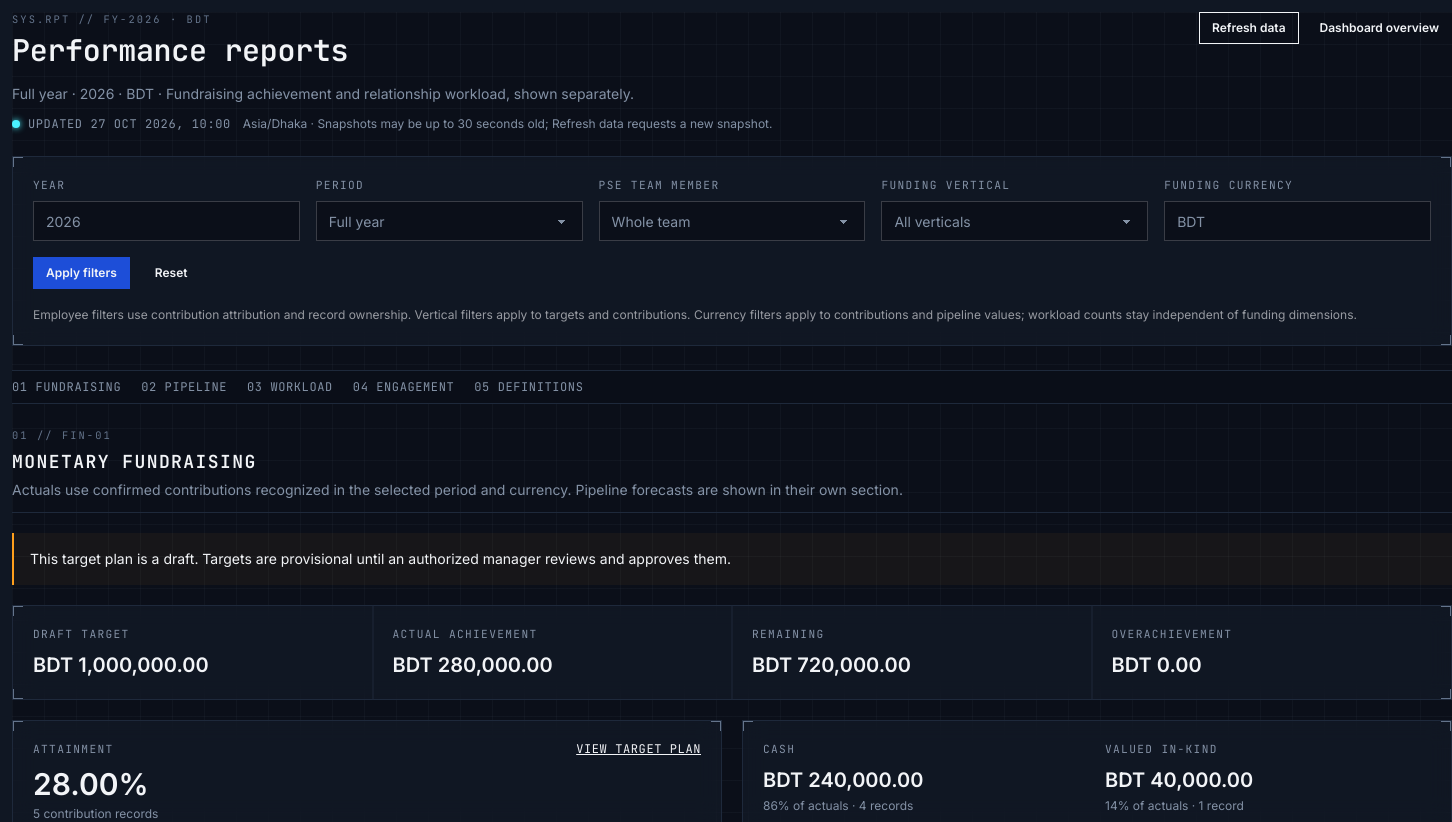
Scenario: detailed reporting view › keeps refresh failures visible instead of refreshing stale data
This screenshot has width=1452, height=822.
Click the button "Refresh data" at (1249, 28), box [1199,12,1299,44]
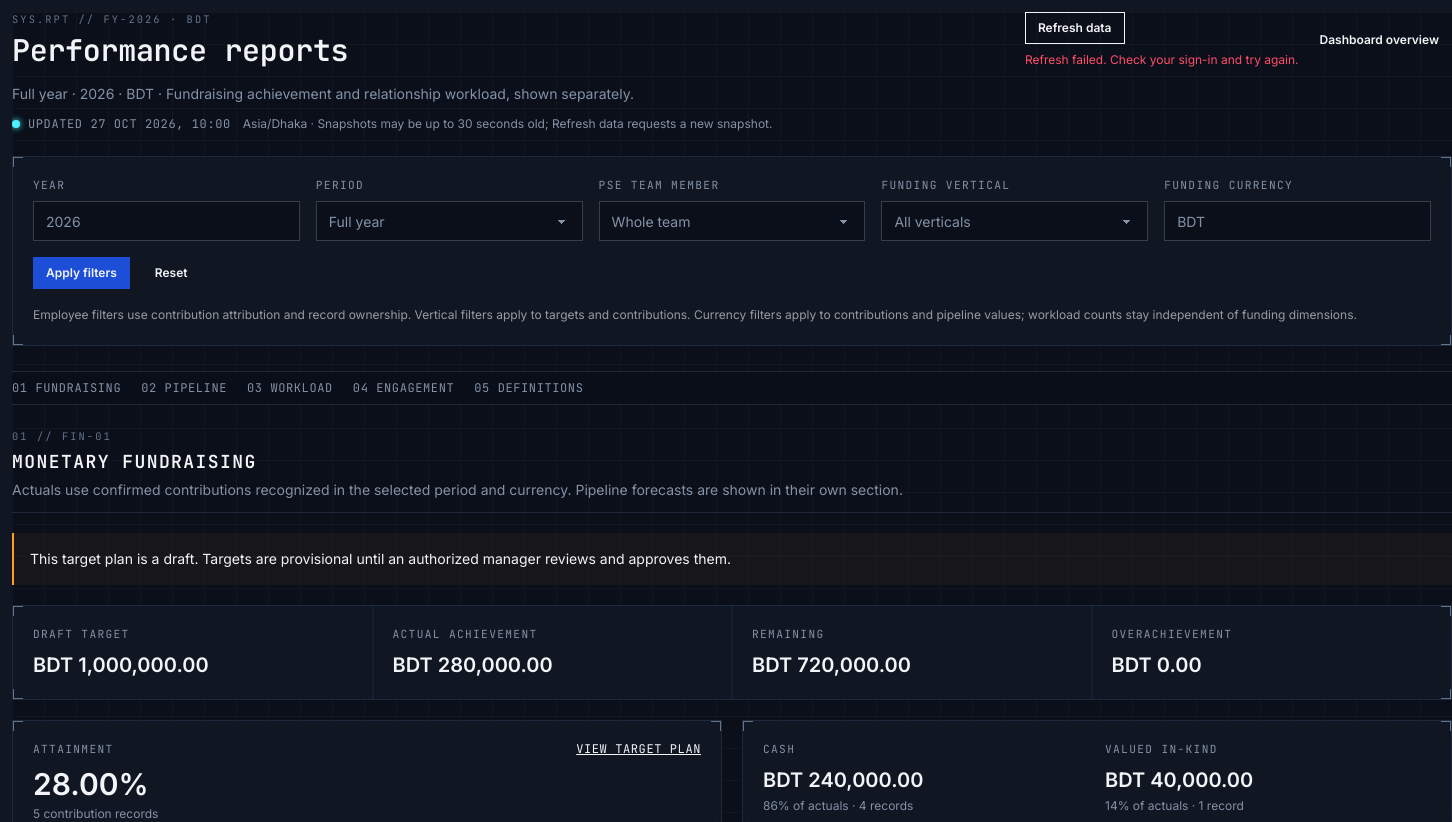
Now the message "Refresh failed. Check your sign-in and try again." is shown, box [1025,52,1298,68]
